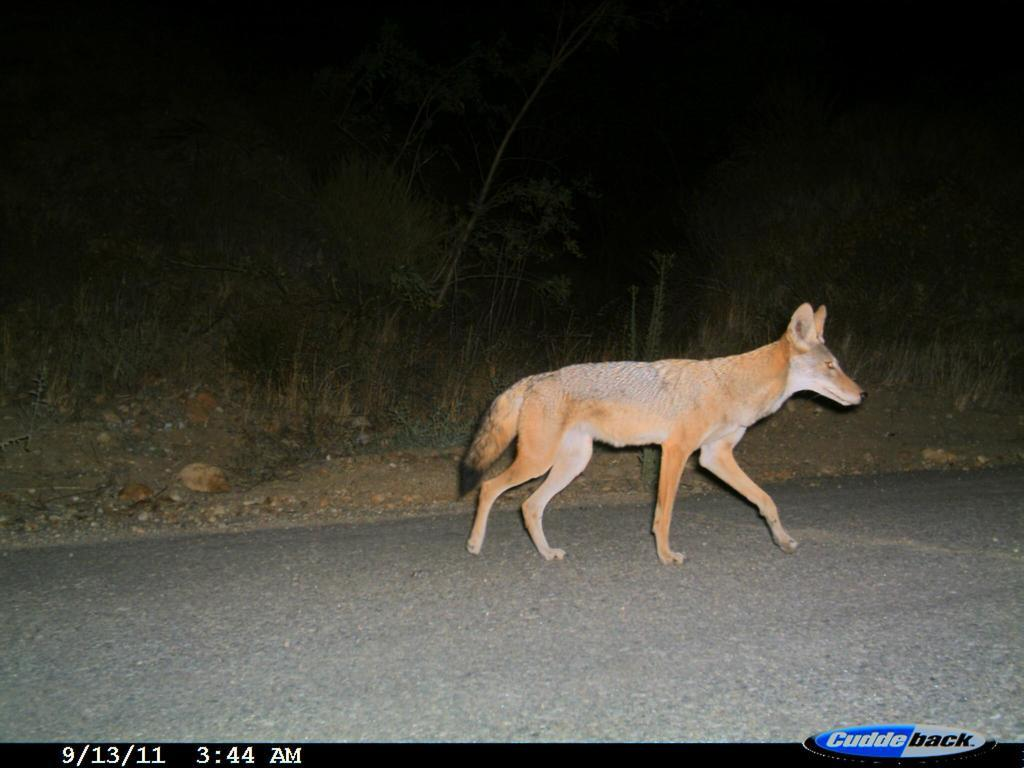coyote: (447, 285, 873, 588)
